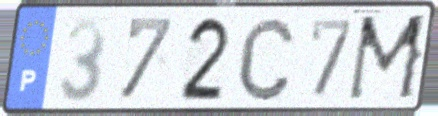2: (178, 13, 234, 106)
3: (57, 15, 110, 104)
7: (119, 15, 175, 104), (306, 15, 354, 101)
C: (234, 14, 298, 105)
M: (344, 12, 432, 105)
